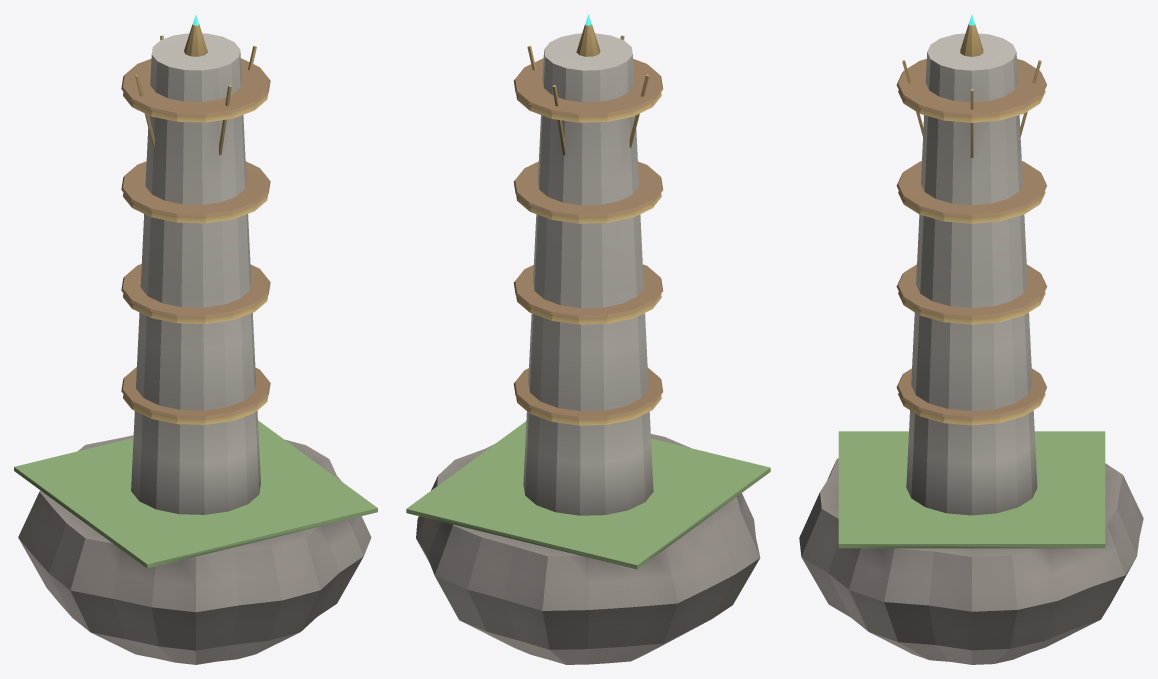
Rendered from 06_weather_tower.glb.
3 views of the same model, side by side, from view 1: azimuth 30°, elevation 25°; view 2: azimuth 150°, elevation 25°; view 3: azimuth 270°, elevation 25° (orthographic).
Parts seen in each view (by area): view 1: weather_tower_stone, weather_tower_rock, weather_tower_grass, weather_tower_wood_nocol, weather_tower_brass, weather_tower_brass_nocol; view 2: weather_tower_stone, weather_tower_rock, weather_tower_grass, weather_tower_wood_nocol, weather_tower_brass, weather_tower_brass_nocol; view 3: weather_tower_stone, weather_tower_rock, weather_tower_grass, weather_tower_wood_nocol, weather_tower_brass, weather_tower_brass_nocol.
Part boxes in pixels (x1,y1,x2,y2): weather_tower_stone: (131, 33, 260, 514); weather_tower_rock: (18, 435, 371, 664); weather_tower_grass: (14, 420, 377, 568); weather_tower_wood_nocol: (121, 58, 270, 418); weather_tower_brass: (123, 35, 268, 424); weather_tower_brass_nocol: (184, 24, 207, 56); weather_tower_stone: (523, 33, 653, 515); weather_tower_rock: (416, 434, 760, 664); weather_tower_grass: (406, 421, 770, 569); weather_tower_wood_nocol: (513, 58, 663, 419); weather_tower_brass: (516, 35, 661, 425); weather_tower_brass_nocol: (576, 24, 600, 56); weather_tower_stone: (906, 33, 1037, 515); weather_tower_rock: (799, 458, 1143, 664); weather_tower_grass: (838, 431, 1105, 548); weather_tower_wood_nocol: (896, 59, 1047, 419); weather_tower_brass: (898, 60, 1045, 425); weather_tower_brass_nocol: (960, 24, 983, 56).
Bounding box in the file's own units: 68.58 × 134 × 68.09.
